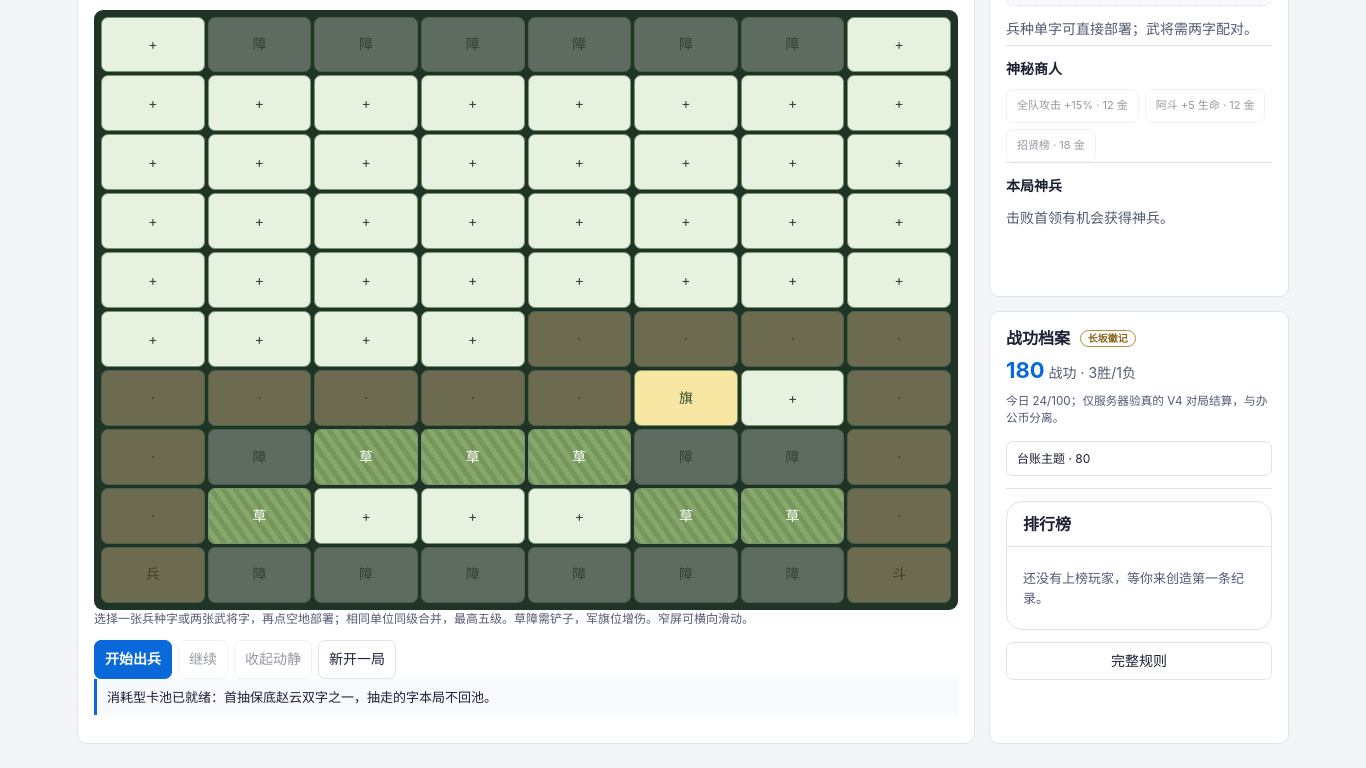
Test: WordFrontV4Page › shows server merit and purchases a cosmetic without touching gameplay state
The width and height of the screenshot is (1366, 768).
(page scrolled)
Expected: the text "长坂徽记" is shown, [1080, 330, 1136, 347]
Click the button "台账主题 · 80": coordinates (1054, 458) [1006, 440, 1272, 476]
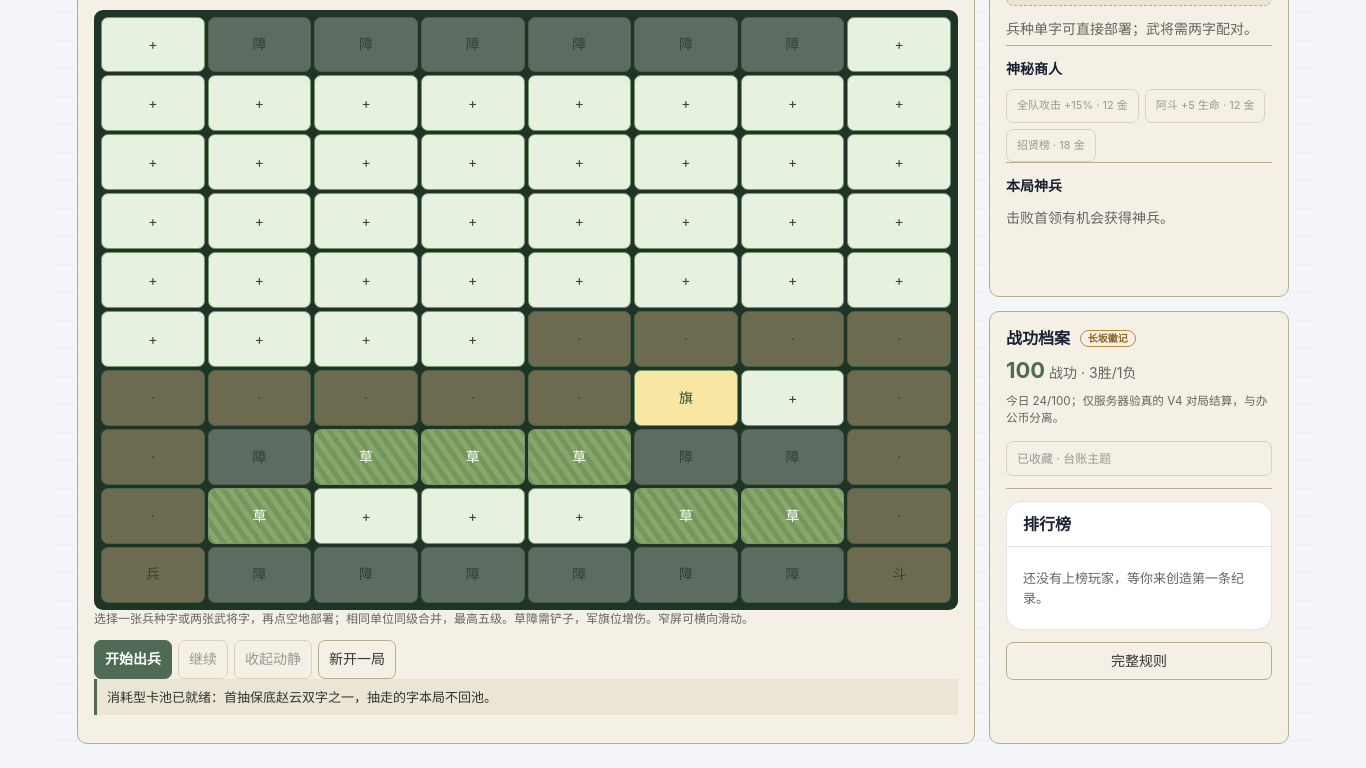
Expected: the button "已收藏 · 台账主题" is disabled, [1006, 440, 1272, 476]
